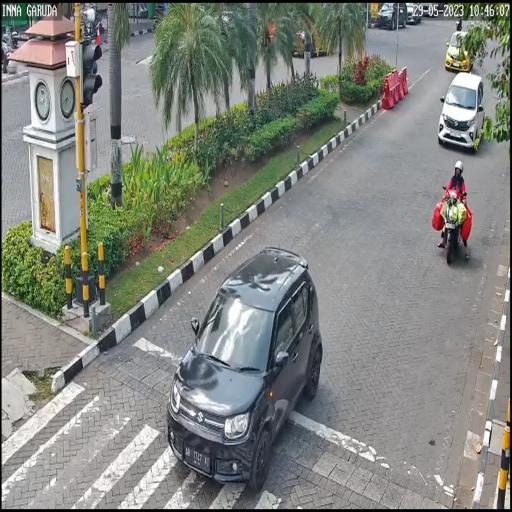mobil: (166, 246, 322, 482), (438, 68, 487, 152), (445, 30, 472, 74)
motor: (440, 184, 466, 268)
